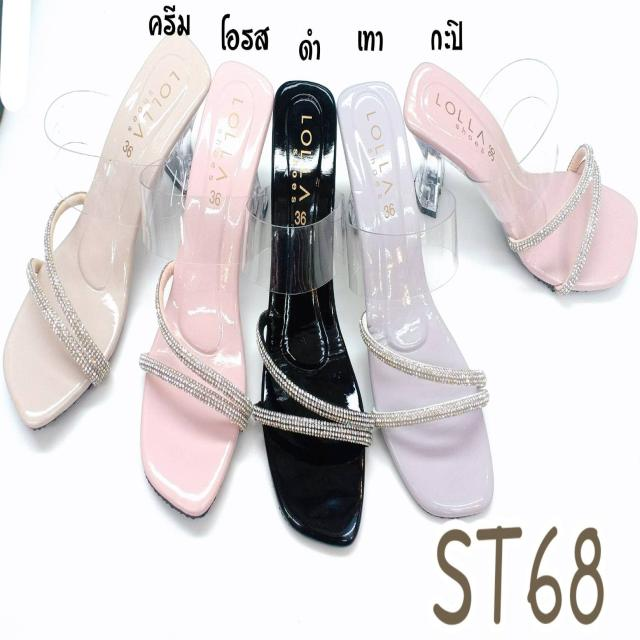black: (261, 75, 369, 543)
cream: (12, 36, 210, 432)
grey: (338, 79, 495, 519)
kapi: (411, 55, 635, 295)
orot: (144, 60, 275, 519)
